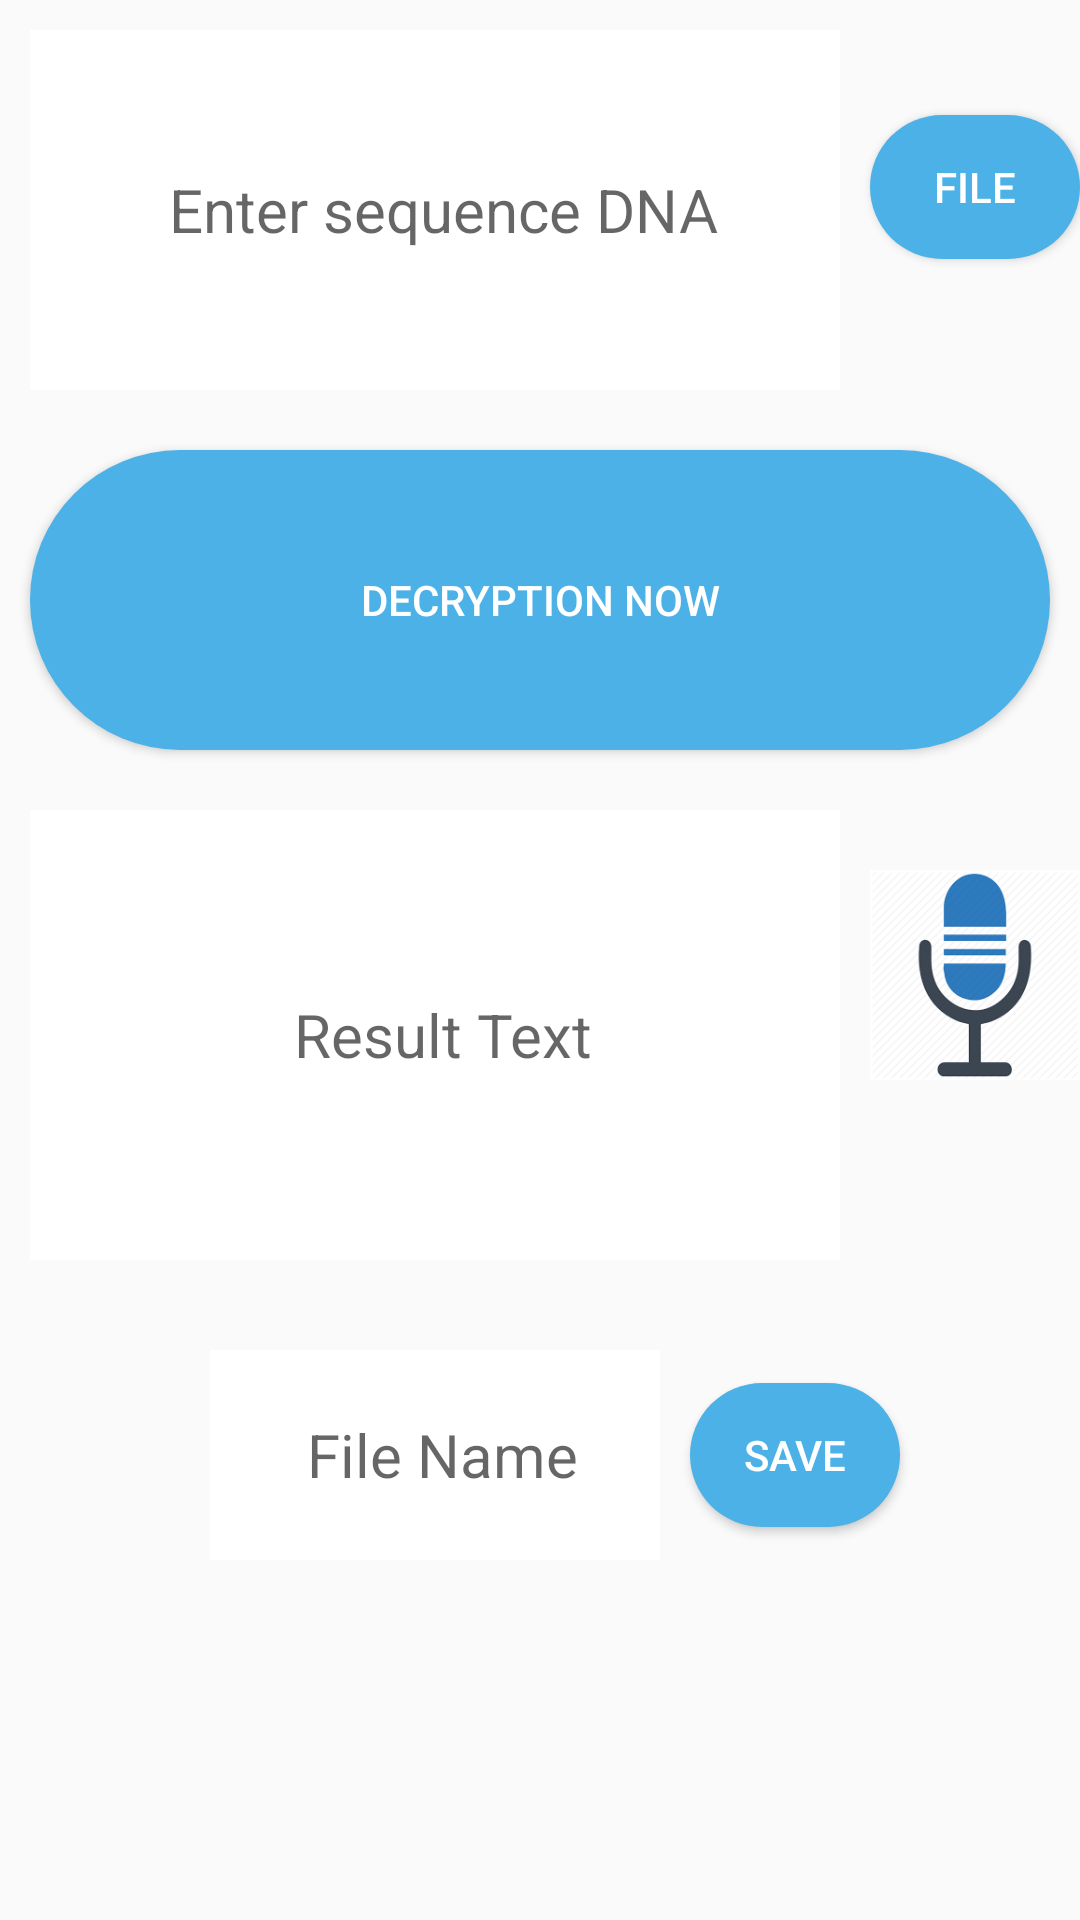

Icon click points for this 1080*1920 phone screenshot, format (x=x, y=y):
microphone: (x=975, y=975)
